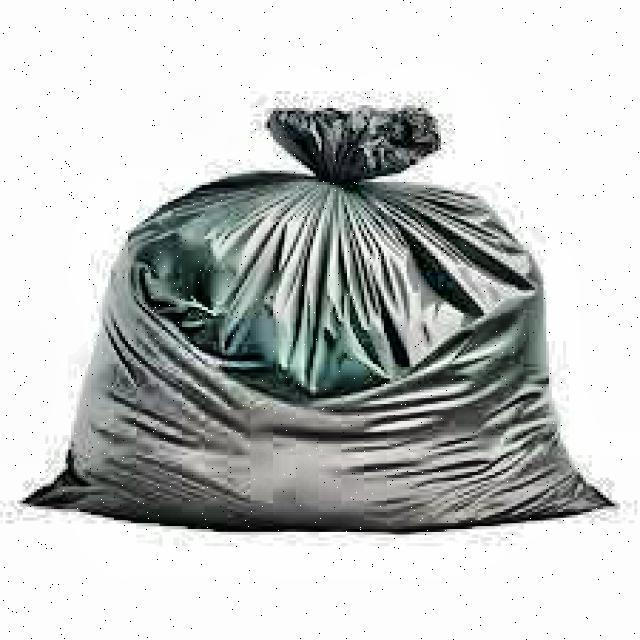Trashbag: (17, 146, 619, 539)
